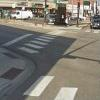Crosswalk: (23, 17, 63, 57)
